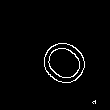O_NW: (22, 22, 88, 88)
